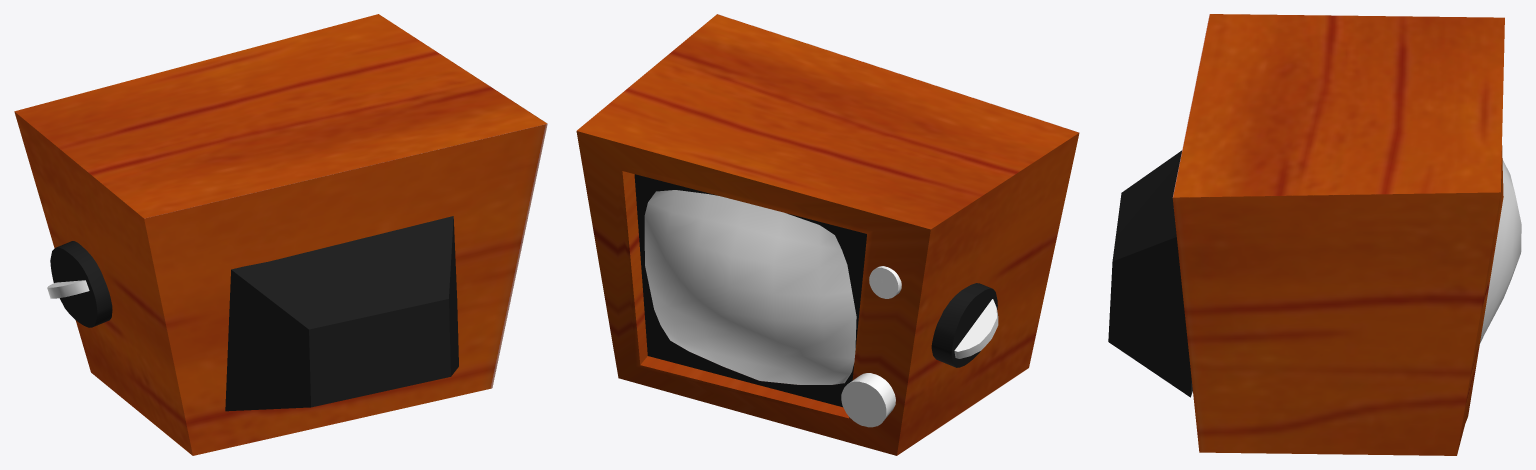
3 views of the same model, side by side, from view 1: azimuth 30°, elevation 25°; view 2: azimuth 150°, elevation 25°; view 3: azimuth 270°, elevation 25° (orthographic). The views are drawn at different scales.
Visible parts, largest first — view 1: Sketchfab Model.002; view 2: Sketchfab Model.002; view 3: Sketchfab Model.002.
Boxes of the visible parts, left/top/right/bottom form: Sketchfab Model.002: left=14, top=14, right=547, bottom=455; Sketchfab Model.002: left=576, top=14, right=1079, bottom=455; Sketchfab Model.002: left=1108, top=14, right=1521, bottom=455.
Size of the model in its own units: 204 by 137 by 180.
Materials: 1 (1 with a texture image).
